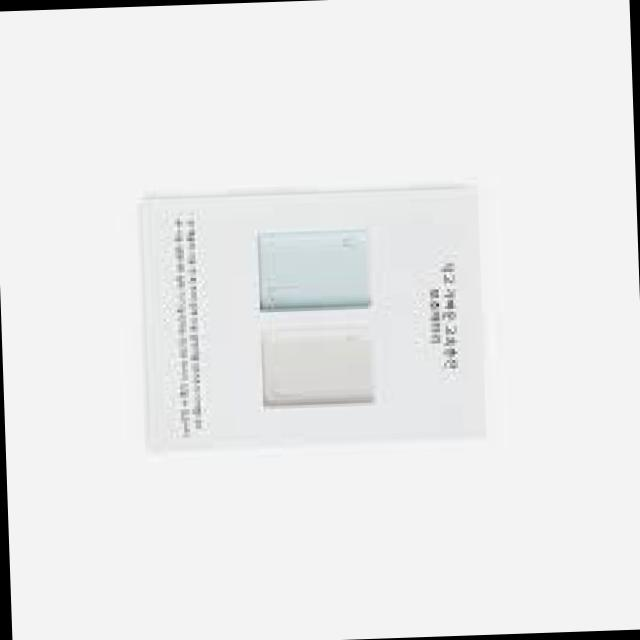power_bank: (250, 224, 372, 316), (260, 328, 375, 410)
